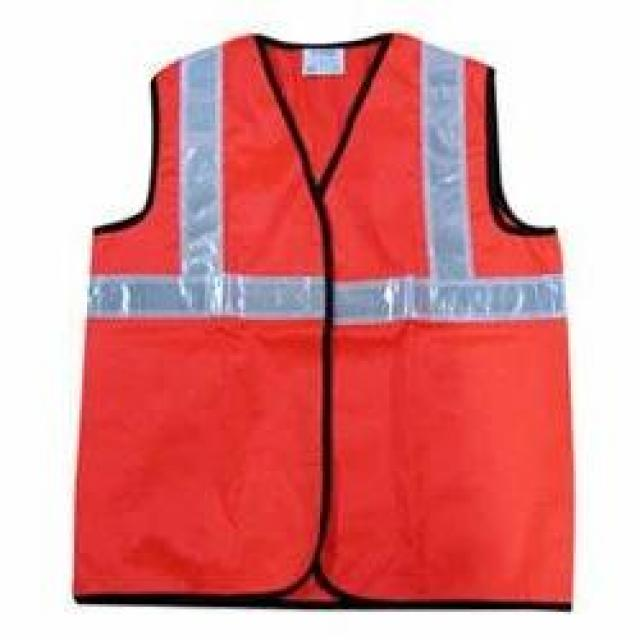Reflective-Jacket: (36, 2, 619, 624)
